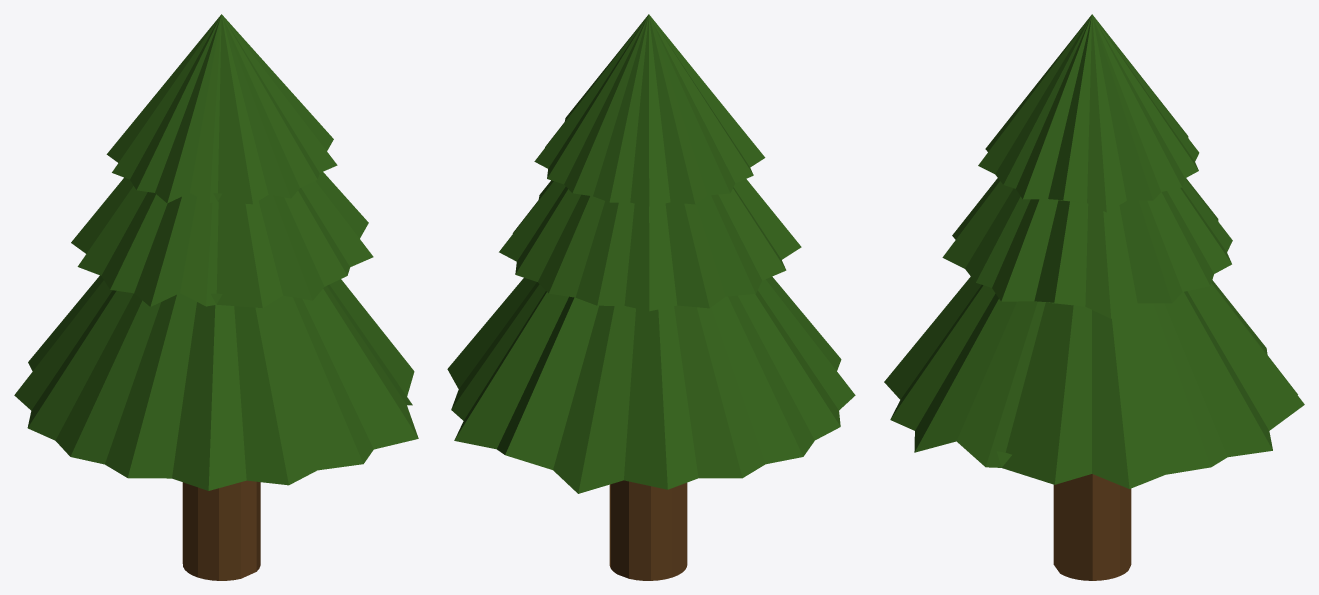
File: harmless_tree.glb
3 views of the same model, side by side, from view 1: azimuth 30°, elevation 25°; view 2: azimuth 150°, elevation 25°; view 3: azimuth 270°, elevation 25° (orthographic).
Parts seen in each view (by area): view 1: Cone, Cone.001, Cone.002, Cylinder; view 2: Cone, Cone.001, Cone.002, Cylinder; view 3: Cone, Cone.001, Cone.002, Cylinder.
Part boxes in pixels (x1,y1,x2,y2): Cone: [14, 275, 418, 490]; Cone.001: [71, 172, 373, 307]; Cone.002: [106, 14, 337, 204]; Cylinder: [182, 480, 260, 580]; Cone: [447, 276, 855, 493]; Cone.001: [499, 179, 801, 311]; Cone.002: [534, 14, 765, 206]; Cylinder: [609, 480, 687, 580]; Cone: [884, 276, 1304, 488]; Cone.001: [942, 178, 1232, 318]; Cone.002: [978, 14, 1199, 212]; Cylinder: [1053, 474, 1131, 580].
Size of the model in its own units: 2.26 by 3.33 by 2.3.
